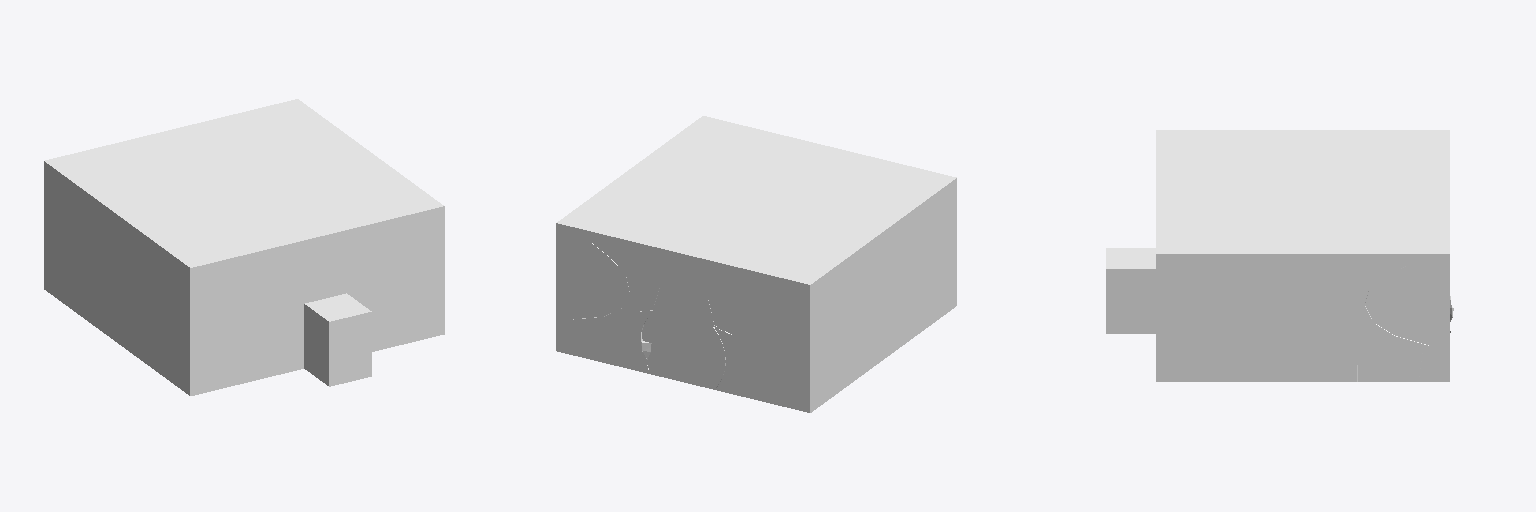
The model's file is PAC.obj.
3 renders of one model, left to right at view 1: azimuth 30°, elevation 25°; view 2: azimuth 150°, elevation 25°; view 3: azimuth 270°, elevation 25°, orthographic.
Parts seen in each view (by area): view 1: PAC; view 2: PAC; view 3: PAC.
Boxes of the visible parts, box(x1,y1,x2,y2) form: PAC: box(44, 99, 444, 395); PAC: box(556, 116, 956, 412); PAC: box(1106, 130, 1453, 381).
Size of the model in its own units: 120 by 57.61 by 141.